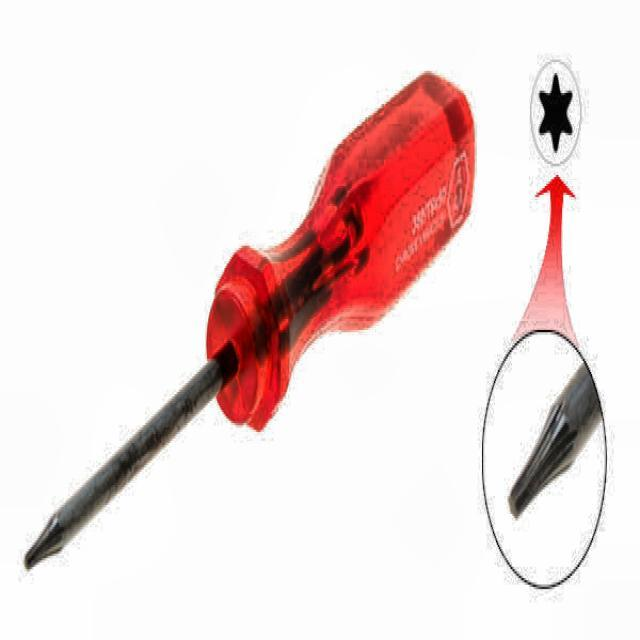screwdriver: (24, 70, 475, 569)
